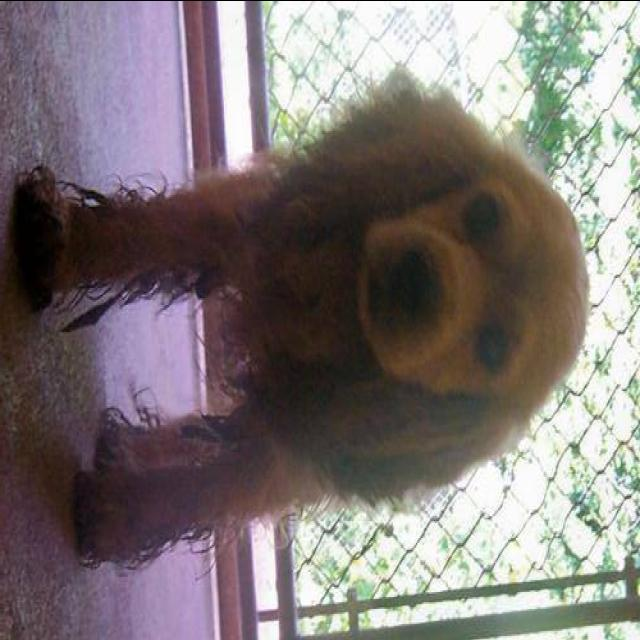dog: (0, 65, 593, 589)
